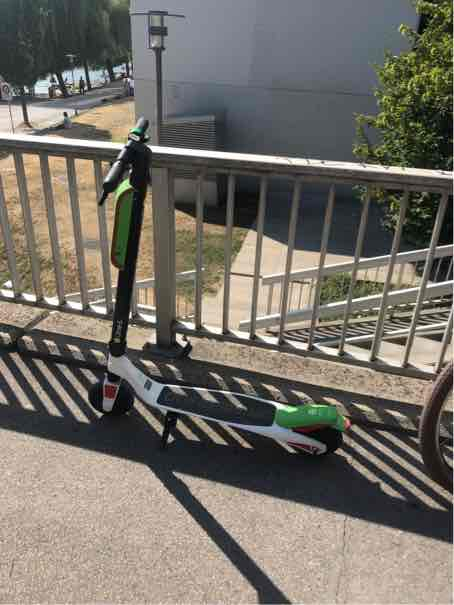scooter: (75, 111, 346, 471)
